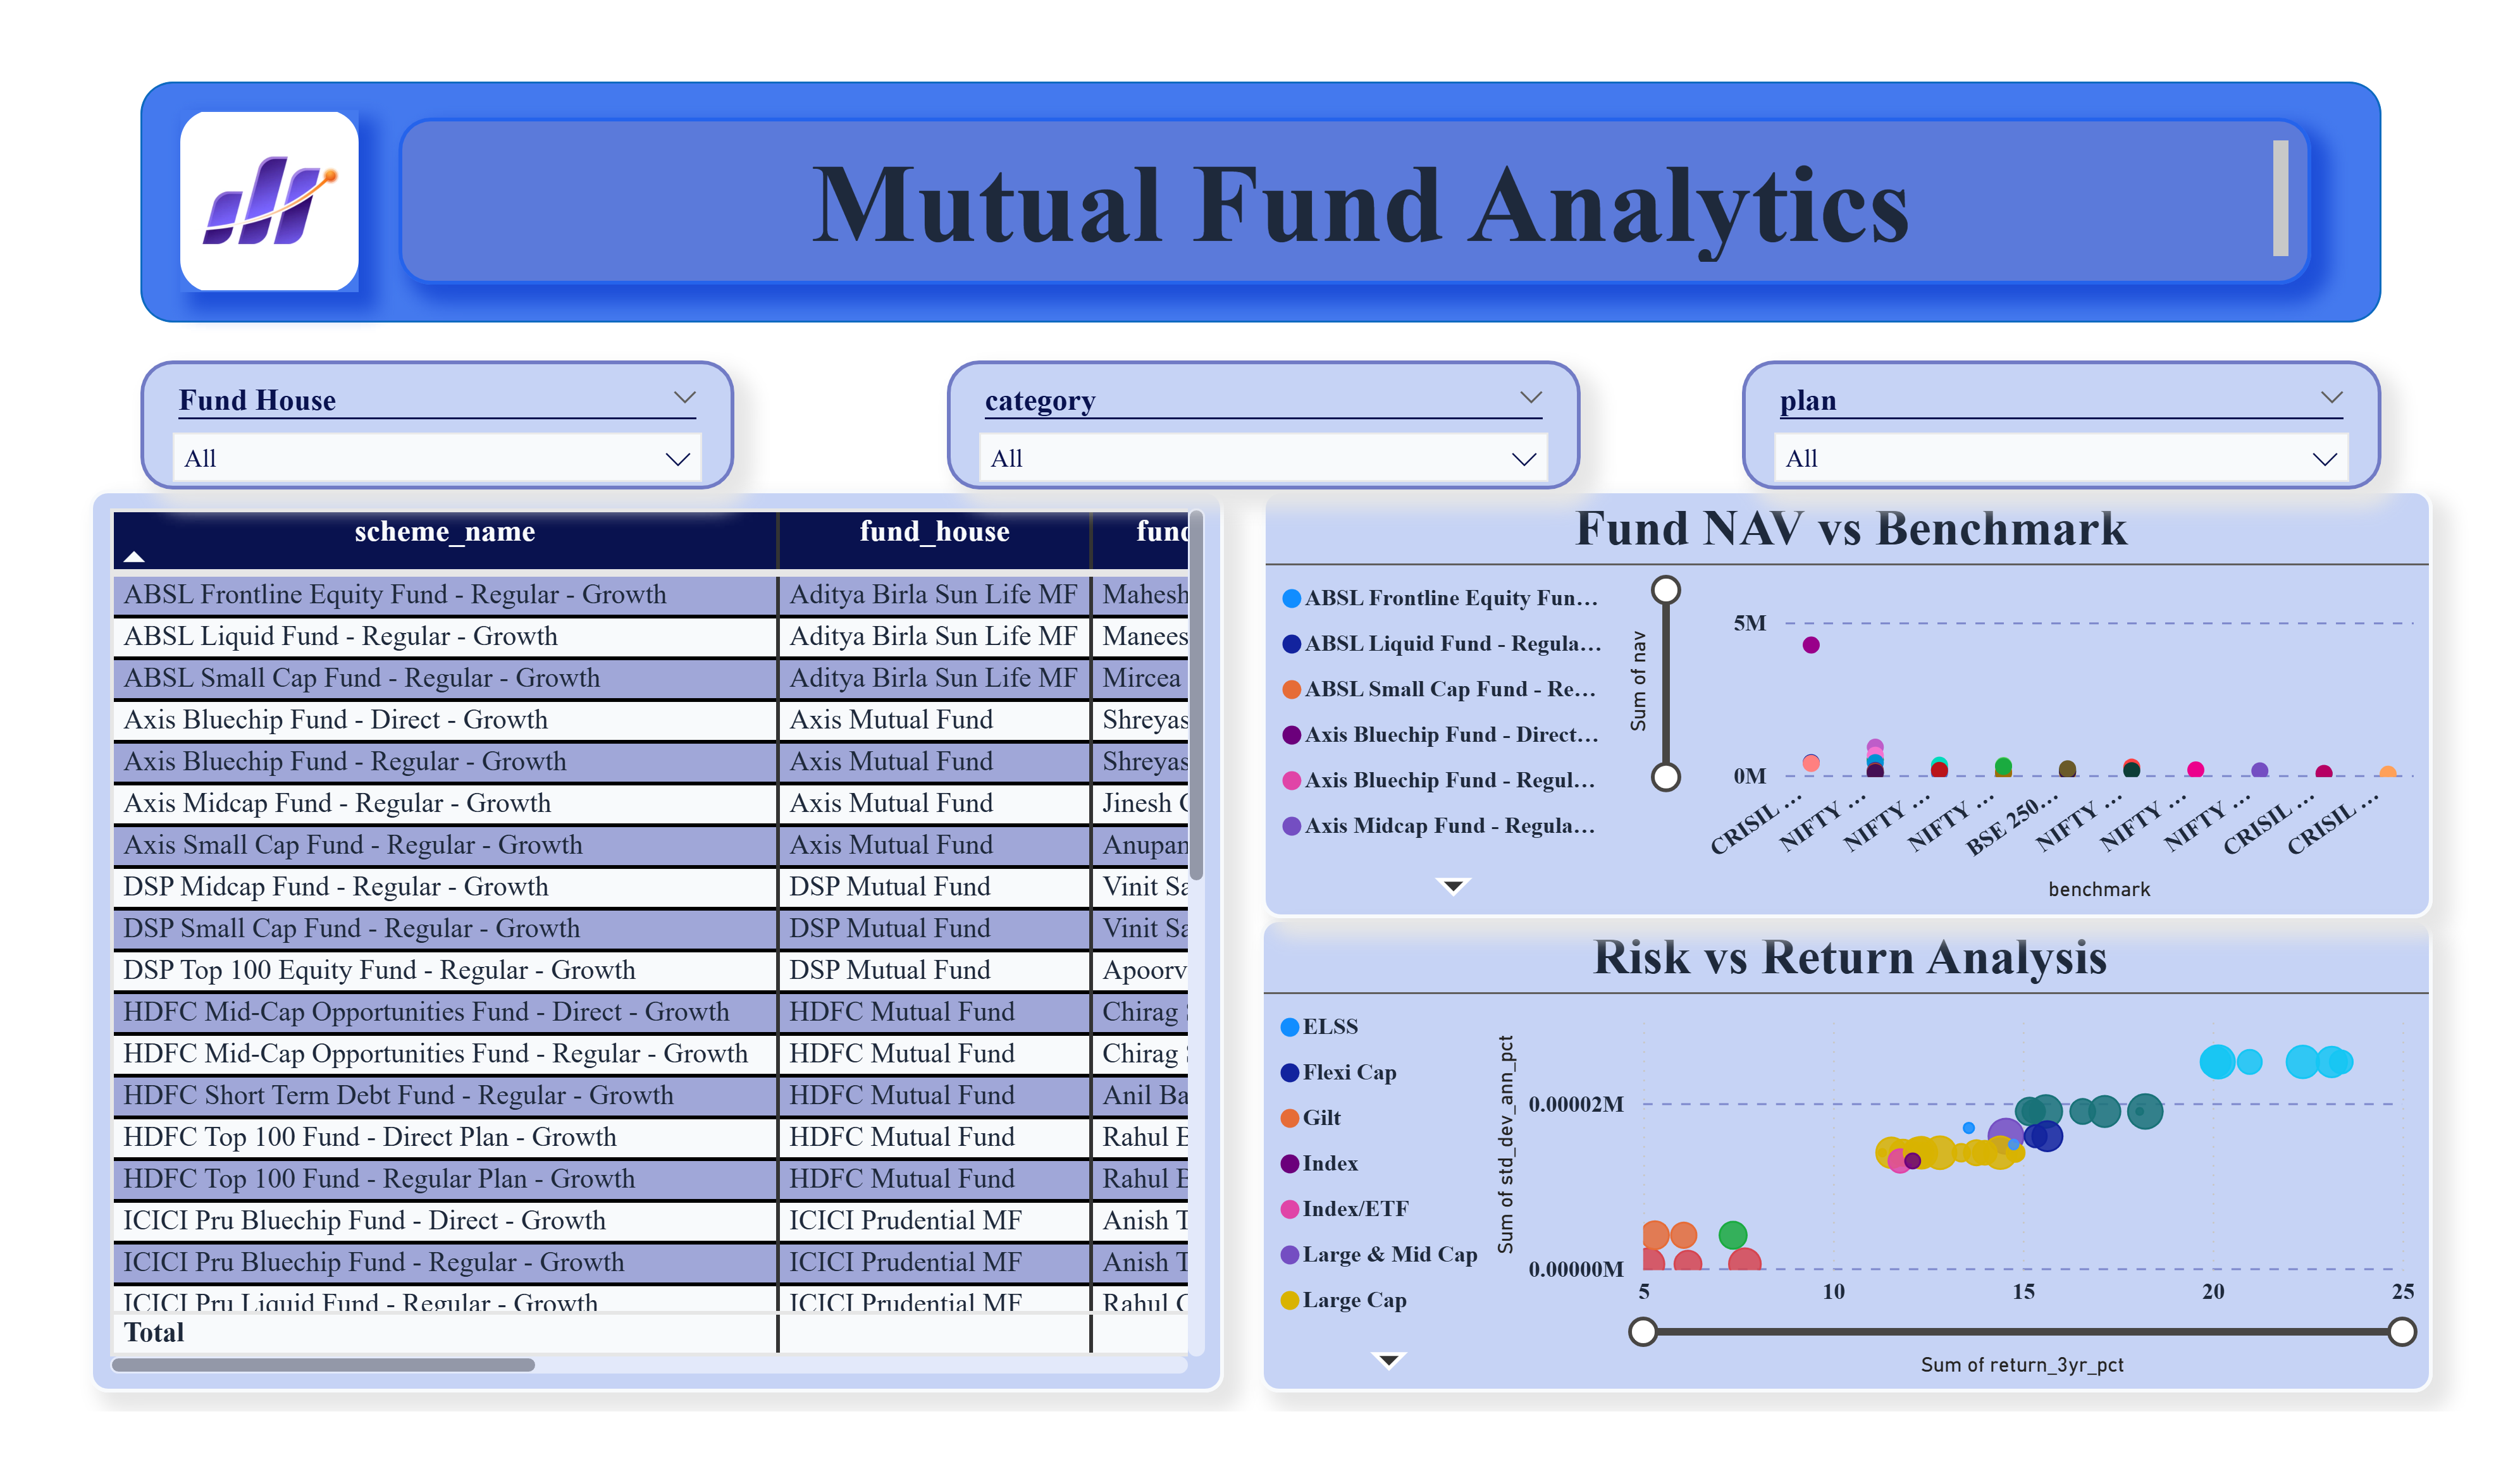

Layout of this report page (visuals, bound fields, positions):
{"tool":"powerbi","page":{"name":"Fund Performance","canvas":[1280,720],"ordinal":1},"visuals":[{"type":"scatterChart","title":"Risk vs Return Analysis","fields":{"X":["Sum(scheme_performance_clean.return_3yr_pct)"],"Y":["Sum(scheme_performance_clean.std_dev_ann_pct)"],"Size":["Sum(scheme_performance_clean.aum_crore)"],"Category":["scheme_performance_clean.return_3yr_pct"],"Series":["scheme_performance_clean.category"]},"box":[639.8,459.7,618.1,250],"z":0},{"type":"tableEx","fields":{"Values":["scheme_performance_clean.scheme_name","scheme_performance_clean.fund_house","fund_master_clean.fund_manager","scheme_performance_clean.category","Sum(scheme_performance_clean.return_3yr_pct)","Sum(scheme_performance_clean.sharpe_ratio)","Sum(scheme_performance_clean.expense_ratio_pct)","Sum(scheme_performance_clean.aum_crore)"]},"box":[23.3,234.5,597.9,475.2],"z":1000},{"type":"shape","box":[49.7,18.6,1181.8,127.3],"z":2000},{"type":"textbox","box":[186.4,37.8,1007.7,88.3],"z":3000},{"type":"image","box":[71.4,34.2,93.2,96.3],"z":4000},{"type":"lineChart","title":"Fund NAV vs Benchmark","fields":{"Category":["fund_master_clean.benchmark"],"Series":["fund_master_clean.scheme_name"],"Y":["Sum(nav_history_clean.nav)"]},"box":[641.3,234.5,616.5,225.2],"z":5000},{"type":"slicer","fields":{"Values":["fund_master_clean.fund_house"]},"box":[49.7,166.2,313.7,68.3],"z":6000},{"type":"slicer","fields":{"Values":["fund_master_clean.category"]},"box":[475.2,166.2,333.9,68.3],"z":7000},{"type":"slicer","fields":{"Values":["fund_master_clean.plan"]},"box":[894.5,166.2,337,68.3],"z":8000}]}

Visuals, with their boxes in screenshot pixels (x1, y1, x2, y2), scaled from the page's 1280x720 canvas onto the 2520x1457 screenshot:
"Risk vs Return Analysis" scatterChart: bbox=(1259, 930, 2476, 1436)
tableEx - scheme_performance_clean.scheme_name x scheme_performance_clean.fund_house: bbox=(46, 474, 1223, 1436)
shape: bbox=(98, 38, 2424, 295)
textbox: bbox=(367, 77, 2351, 255)
image: bbox=(140, 69, 324, 264)
"Fund NAV vs Benchmark" lineChart: bbox=(1263, 474, 2476, 930)
slicer - fund_master_clean.fund_house: bbox=(98, 336, 715, 474)
slicer - fund_master_clean.category: bbox=(936, 336, 1593, 474)
slicer - fund_master_clean.plan: bbox=(1761, 336, 2424, 474)
